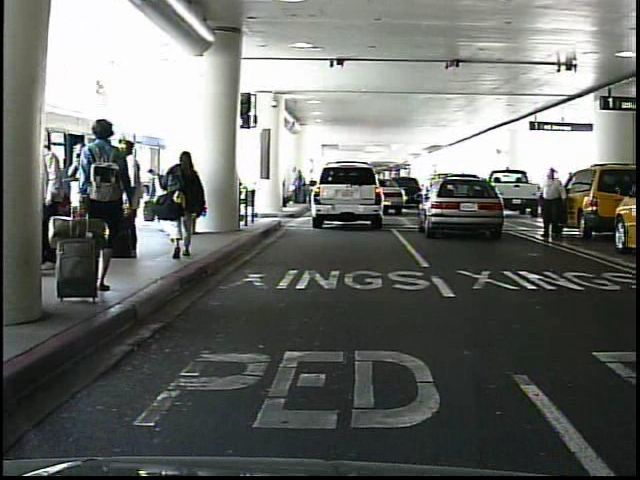person: (76, 113, 131, 304), (162, 144, 207, 268), (38, 126, 71, 278), (111, 137, 148, 258), (539, 167, 567, 243), (173, 156, 198, 234)
